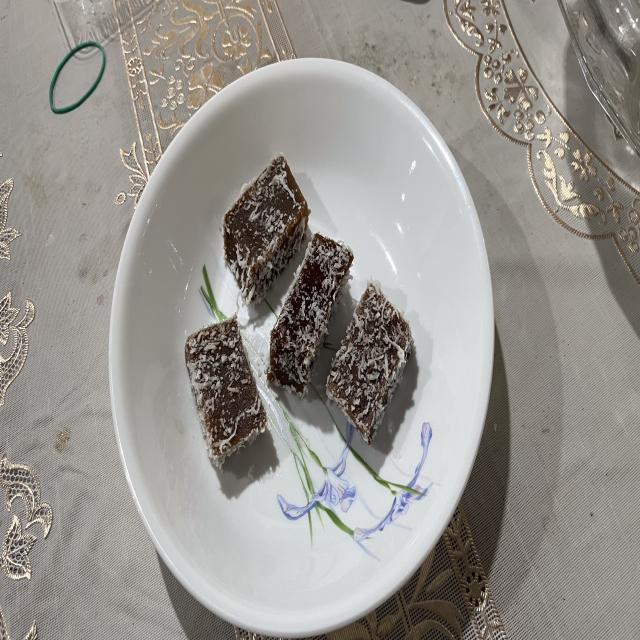kaswi: (326, 282, 414, 444), (268, 233, 354, 398), (224, 156, 310, 307), (185, 316, 266, 467)
